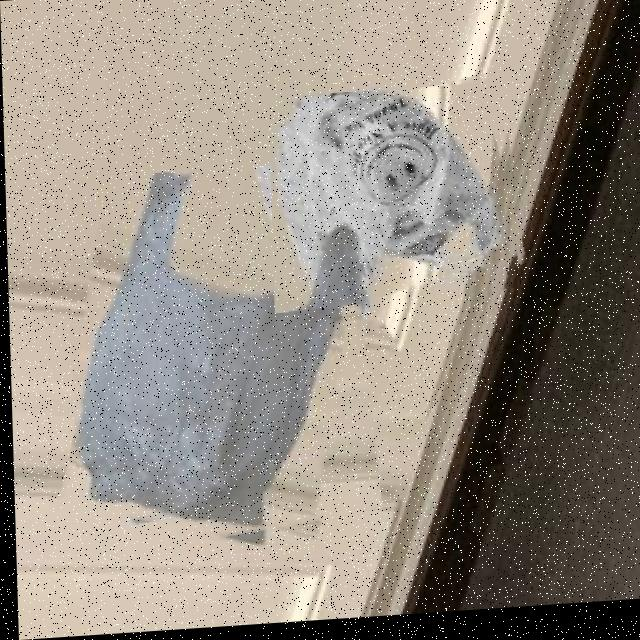plasticcover: (66, 163, 380, 562), (268, 87, 518, 316)
